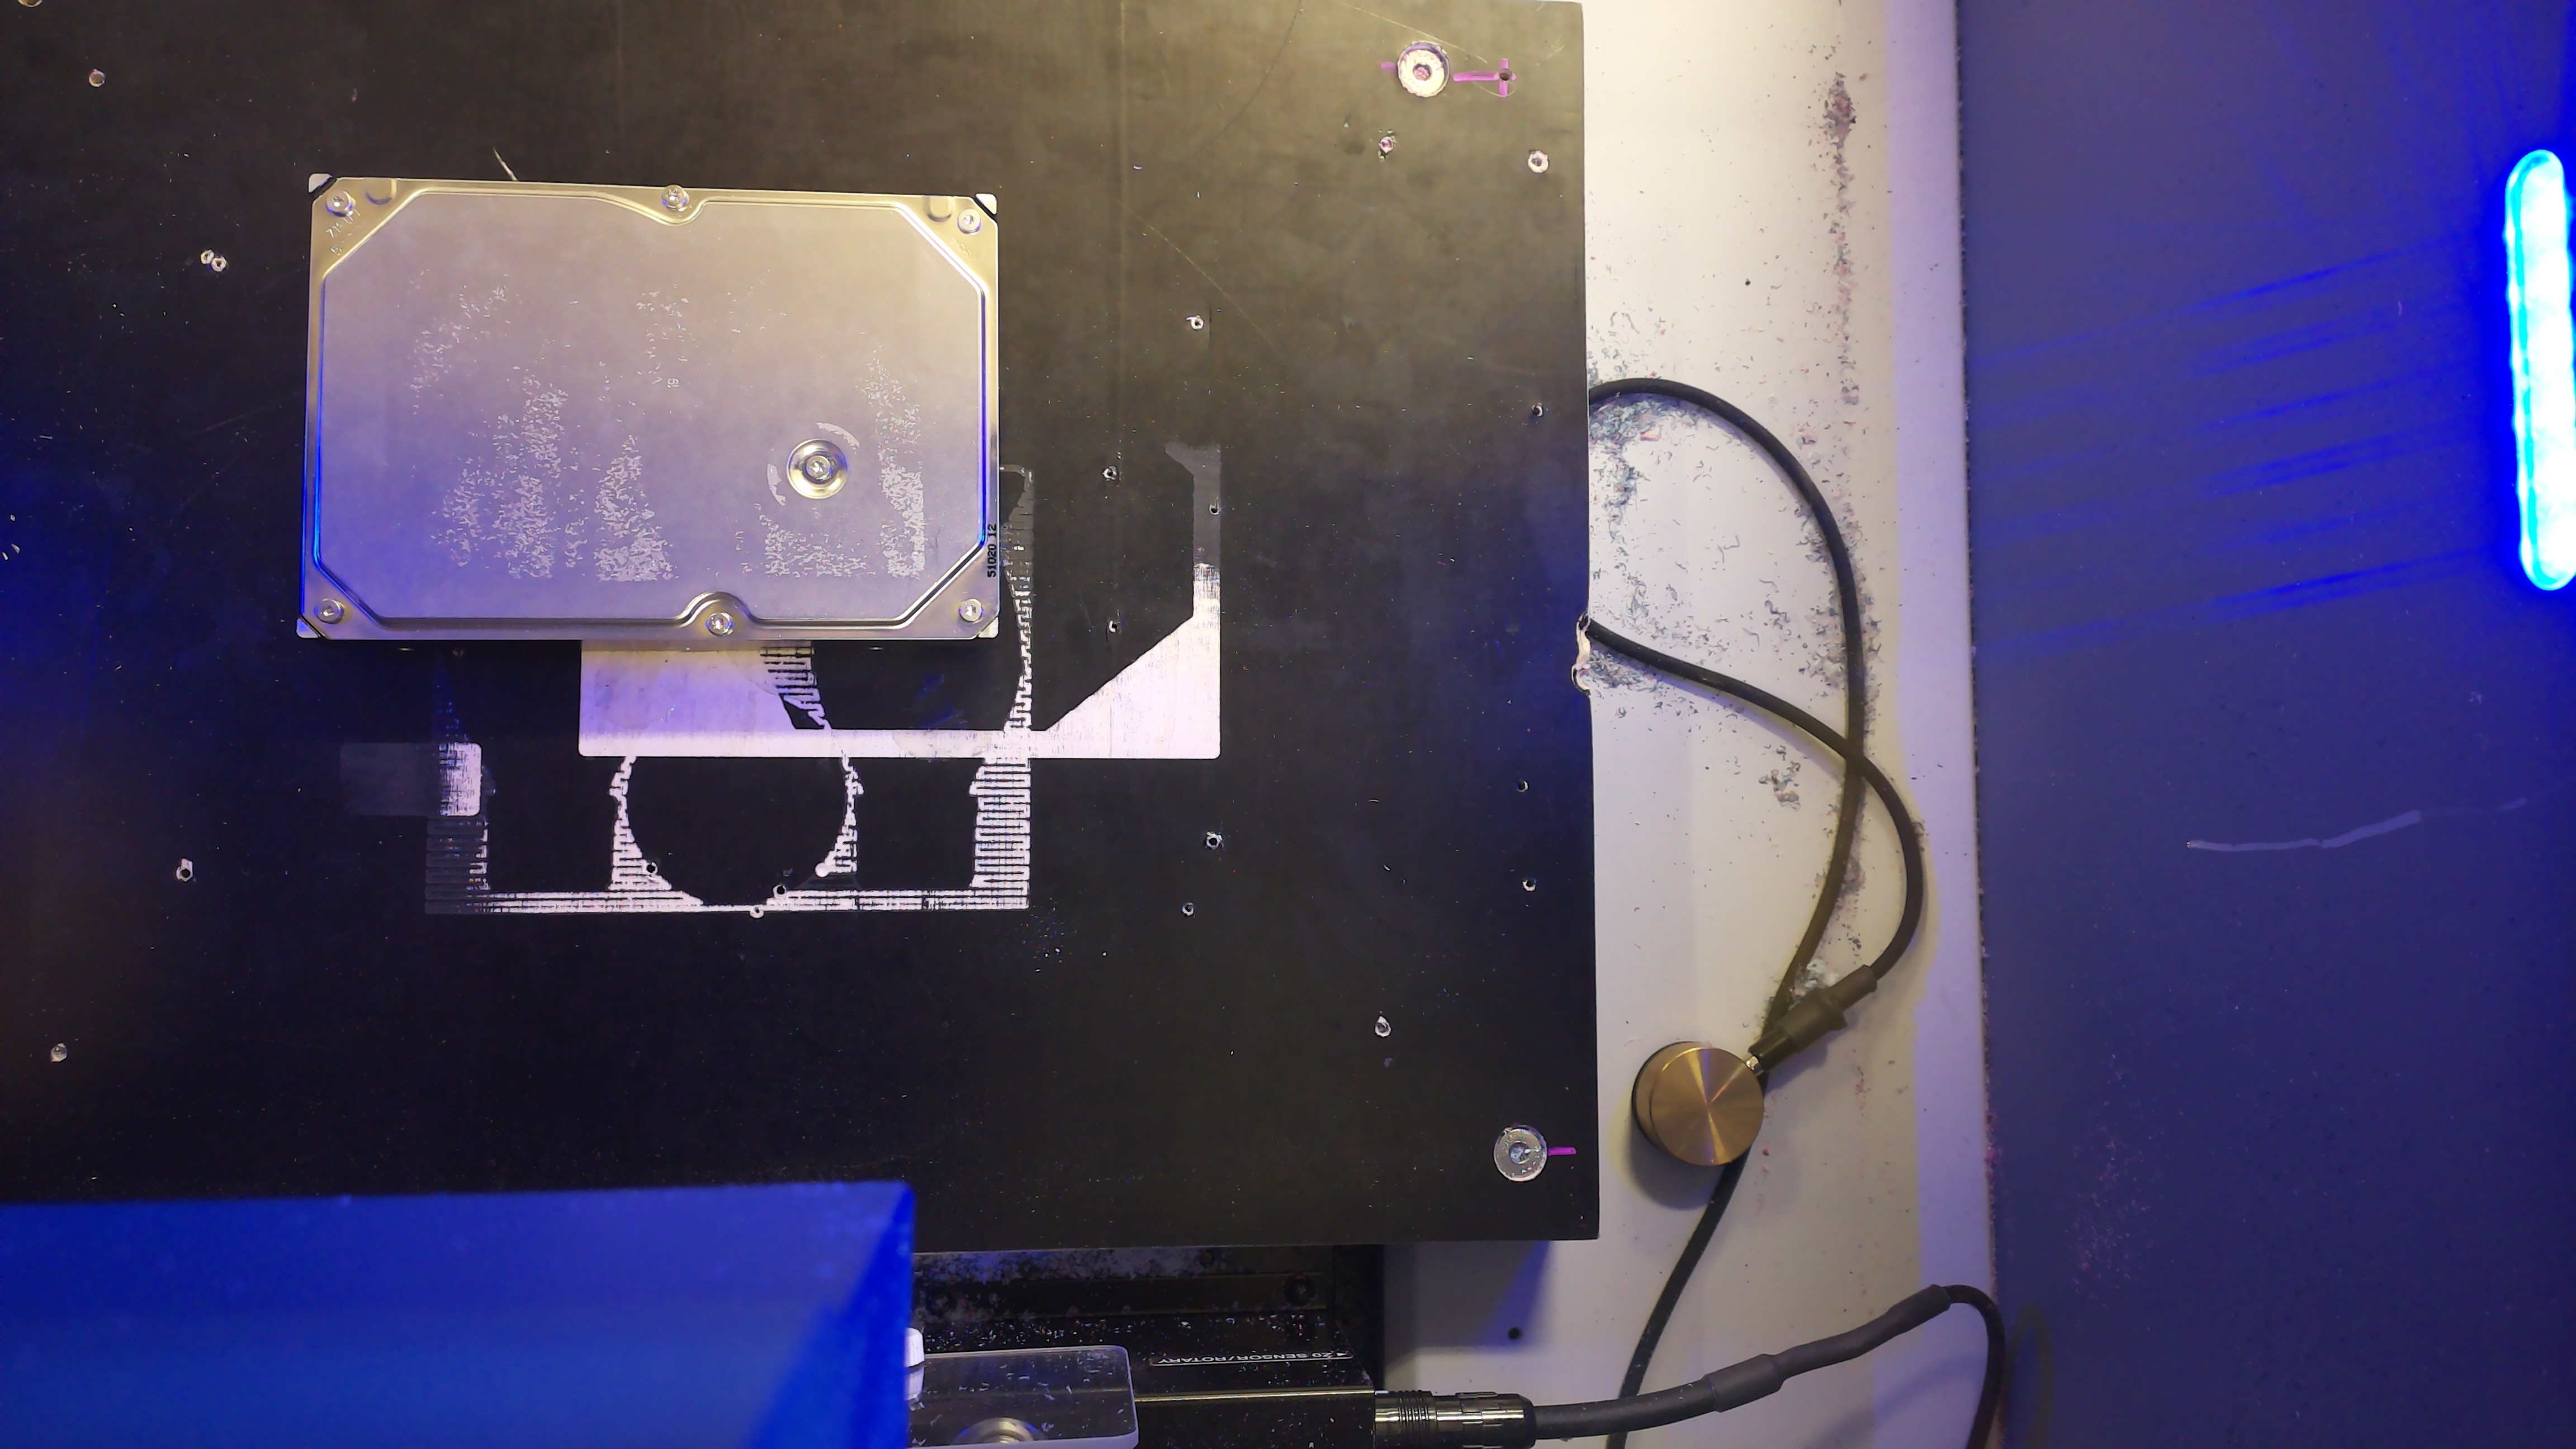Screw: (313, 596, 343, 625), (706, 610, 732, 635), (805, 455, 830, 481), (662, 182, 686, 209), (326, 189, 352, 214), (959, 598, 982, 623), (959, 207, 980, 232)
